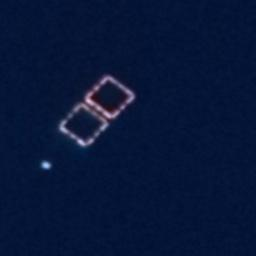square_solid: (80, 69, 139, 122), (58, 99, 114, 150)
